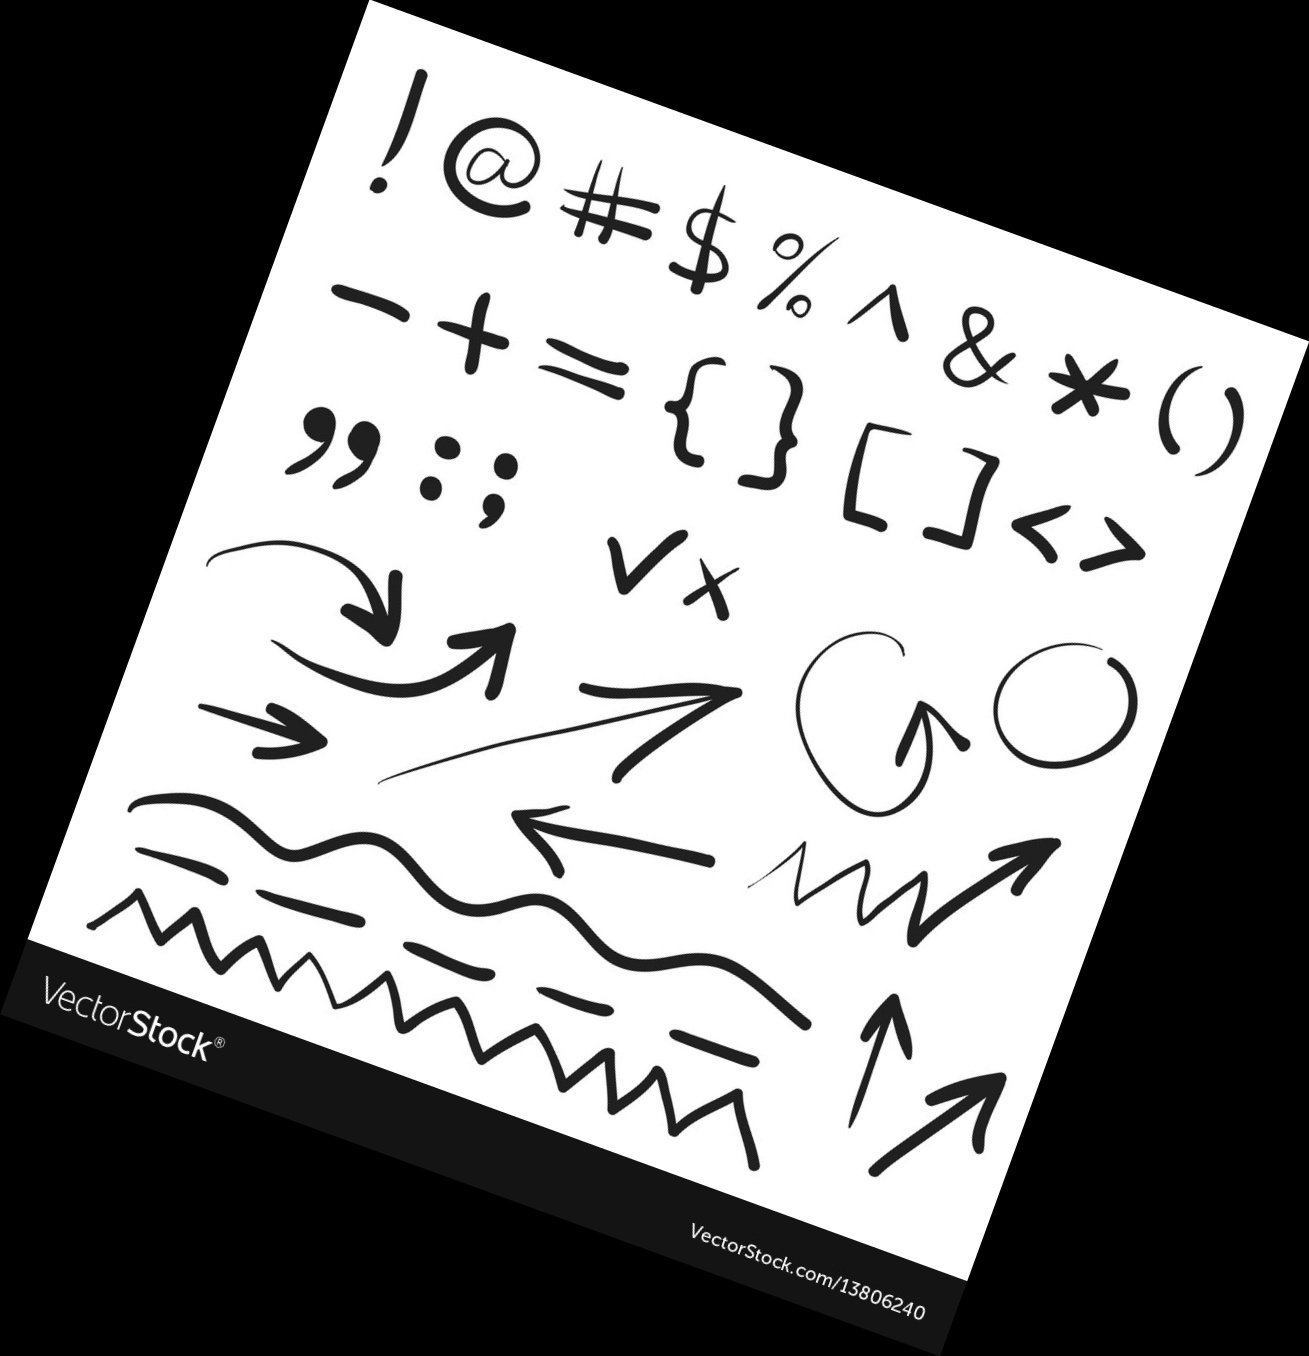arrow: (510, 668, 756, 793), (499, 798, 645, 887), (946, 827, 1068, 929), (216, 686, 341, 778), (895, 1068, 1017, 1157), (407, 619, 521, 712), (885, 694, 977, 805), (308, 555, 404, 657), (839, 988, 914, 1094)
